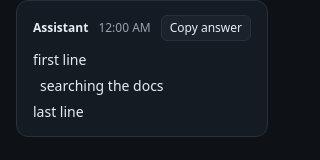
Test: MessageItem tool tooltip interaction › opens on touch activation without hover
Hover over the button with class "tool-progress__row" at (142, 86), box 33,72 -> 251,99
Click the button with class "tool-progress__row" at (142, 86), box 33,72 -> 251,99
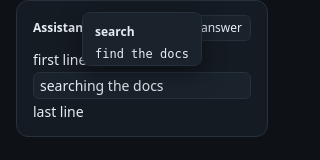
Expected: the tooltip with class "tool-progress__tooltip" is shown, 82,12 -> 202,66
